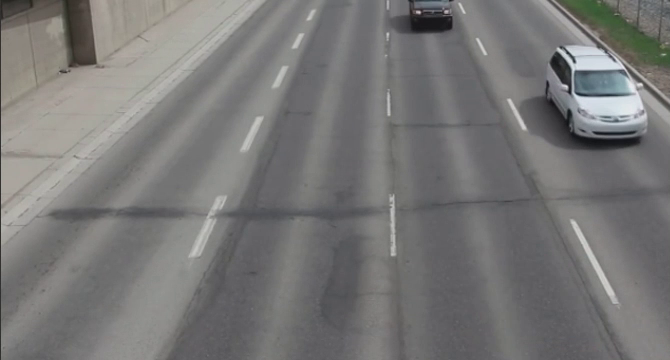car: (541, 46, 657, 145), (407, 1, 455, 32)
